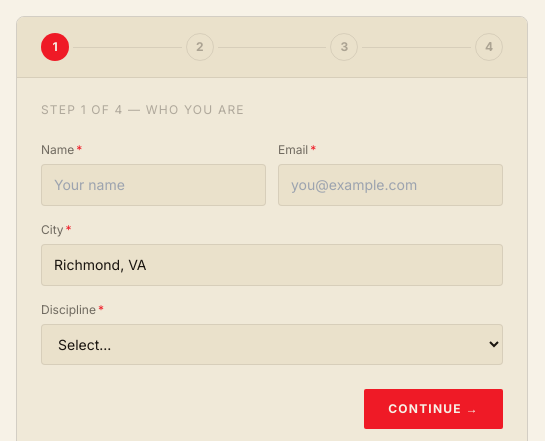
Test: Application form › advances to Step 2 after filling Step 1 required fields
In the field labelled "Name*": (154, 185) [41,164,266,206], type "Jordan Lee"
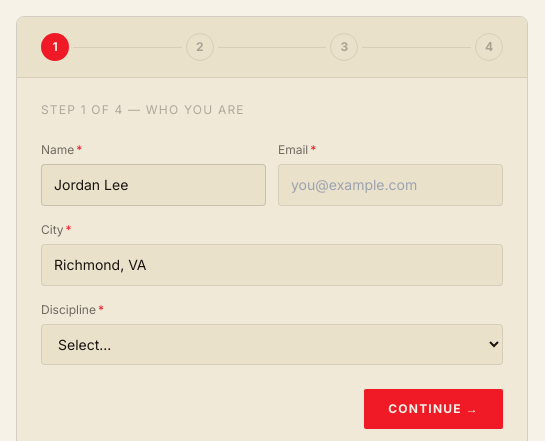
In the field labelled "Email*": (390, 185) [278,164,503,206], type "jordan@example.com"
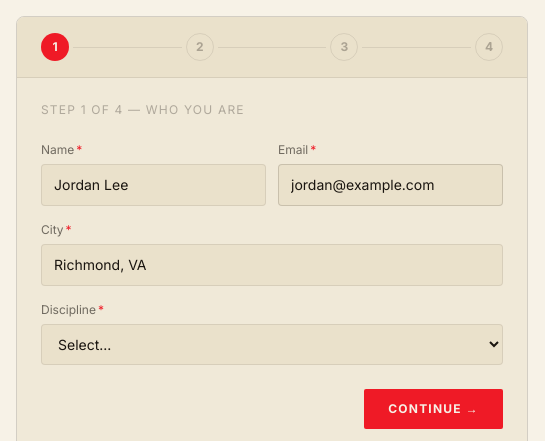
Select "DJ" in the dropdown labelled "Discipline*": (272, 344) [41,324,503,365]
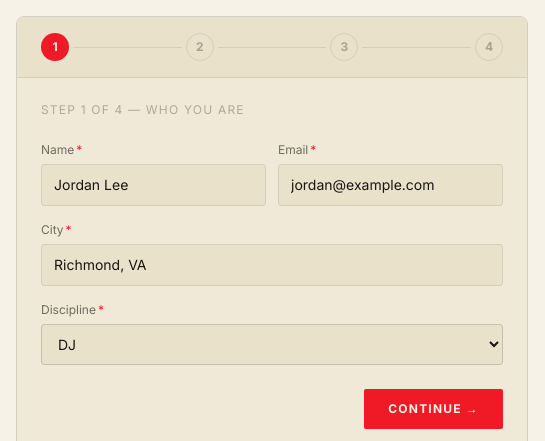
Click the button "Continue →": (434, 409) [364,389,503,429]
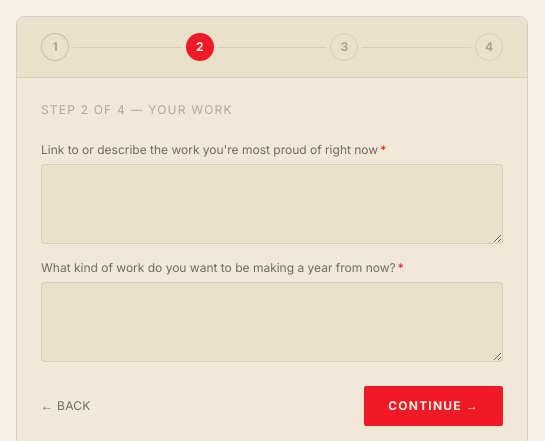
Expected: the text "Step 2 of 4 — Your Work" is shown, [41,102,233,117]
